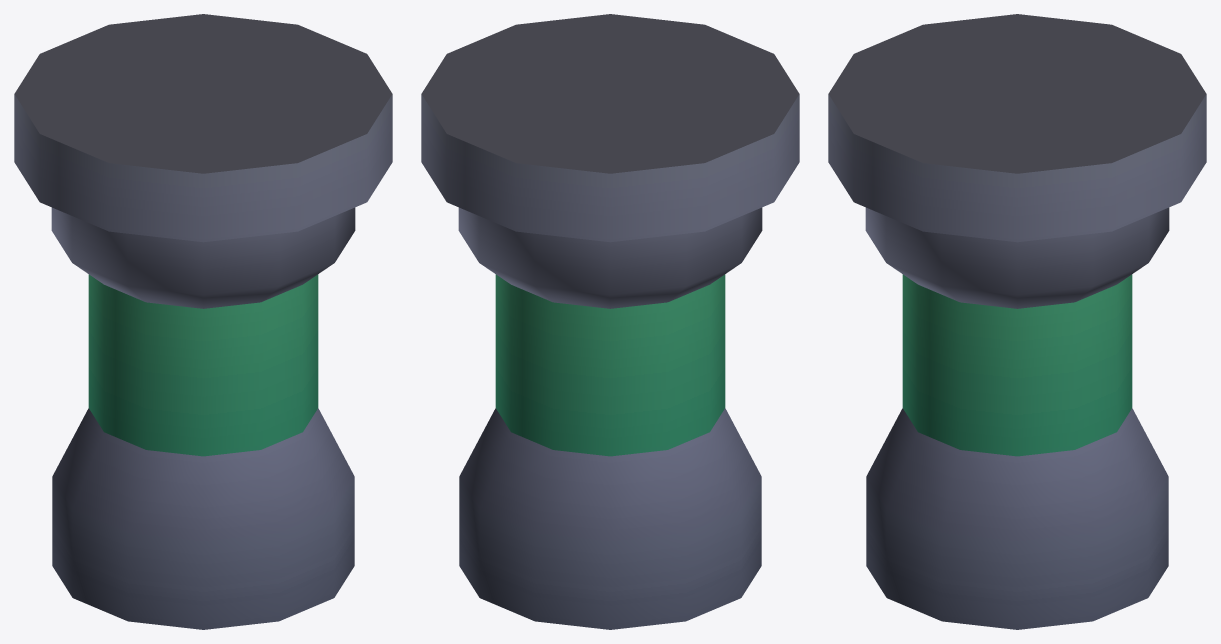
File: column.glb
The picture shows the model from 3 angles, left to right: view 1: azimuth 30°, elevation 25°; view 2: azimuth 150°, elevation 25°; view 3: azimuth 270°, elevation 25°; orthographic projection.
Parts seen in each view (by area): view 1: column; view 2: column; view 3: column.
Part boxes in pixels (x1=…): column: x1=14, y1=14, x2=392, y2=629; column: x1=421, y1=14, x2=799, y2=629; column: x1=828, y1=14, x2=1206, y2=629.
Size of the model in its own units: 0.7258 by 1 by 0.7258.
1 material, 1 textured.
